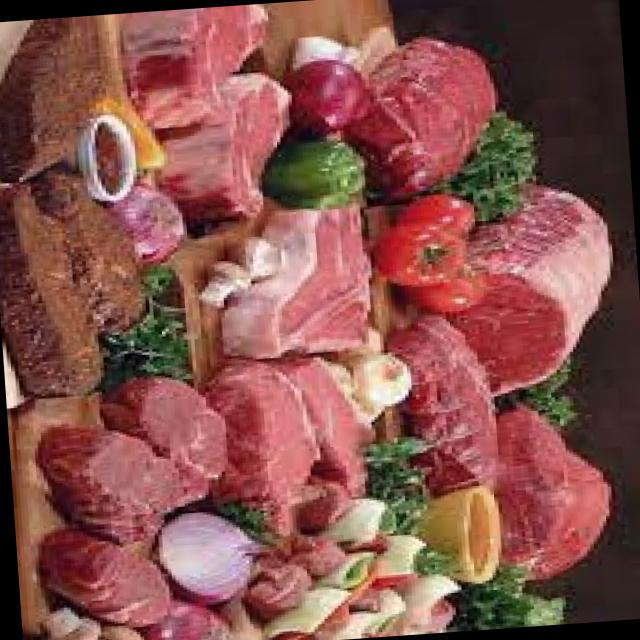Beef: (200, 198, 376, 358), (346, 34, 500, 202), (46, 418, 214, 538), (163, 68, 289, 216), (401, 310, 499, 498), (139, 4, 280, 124), (208, 362, 311, 510), (49, 522, 178, 634), (119, 386, 229, 482)
